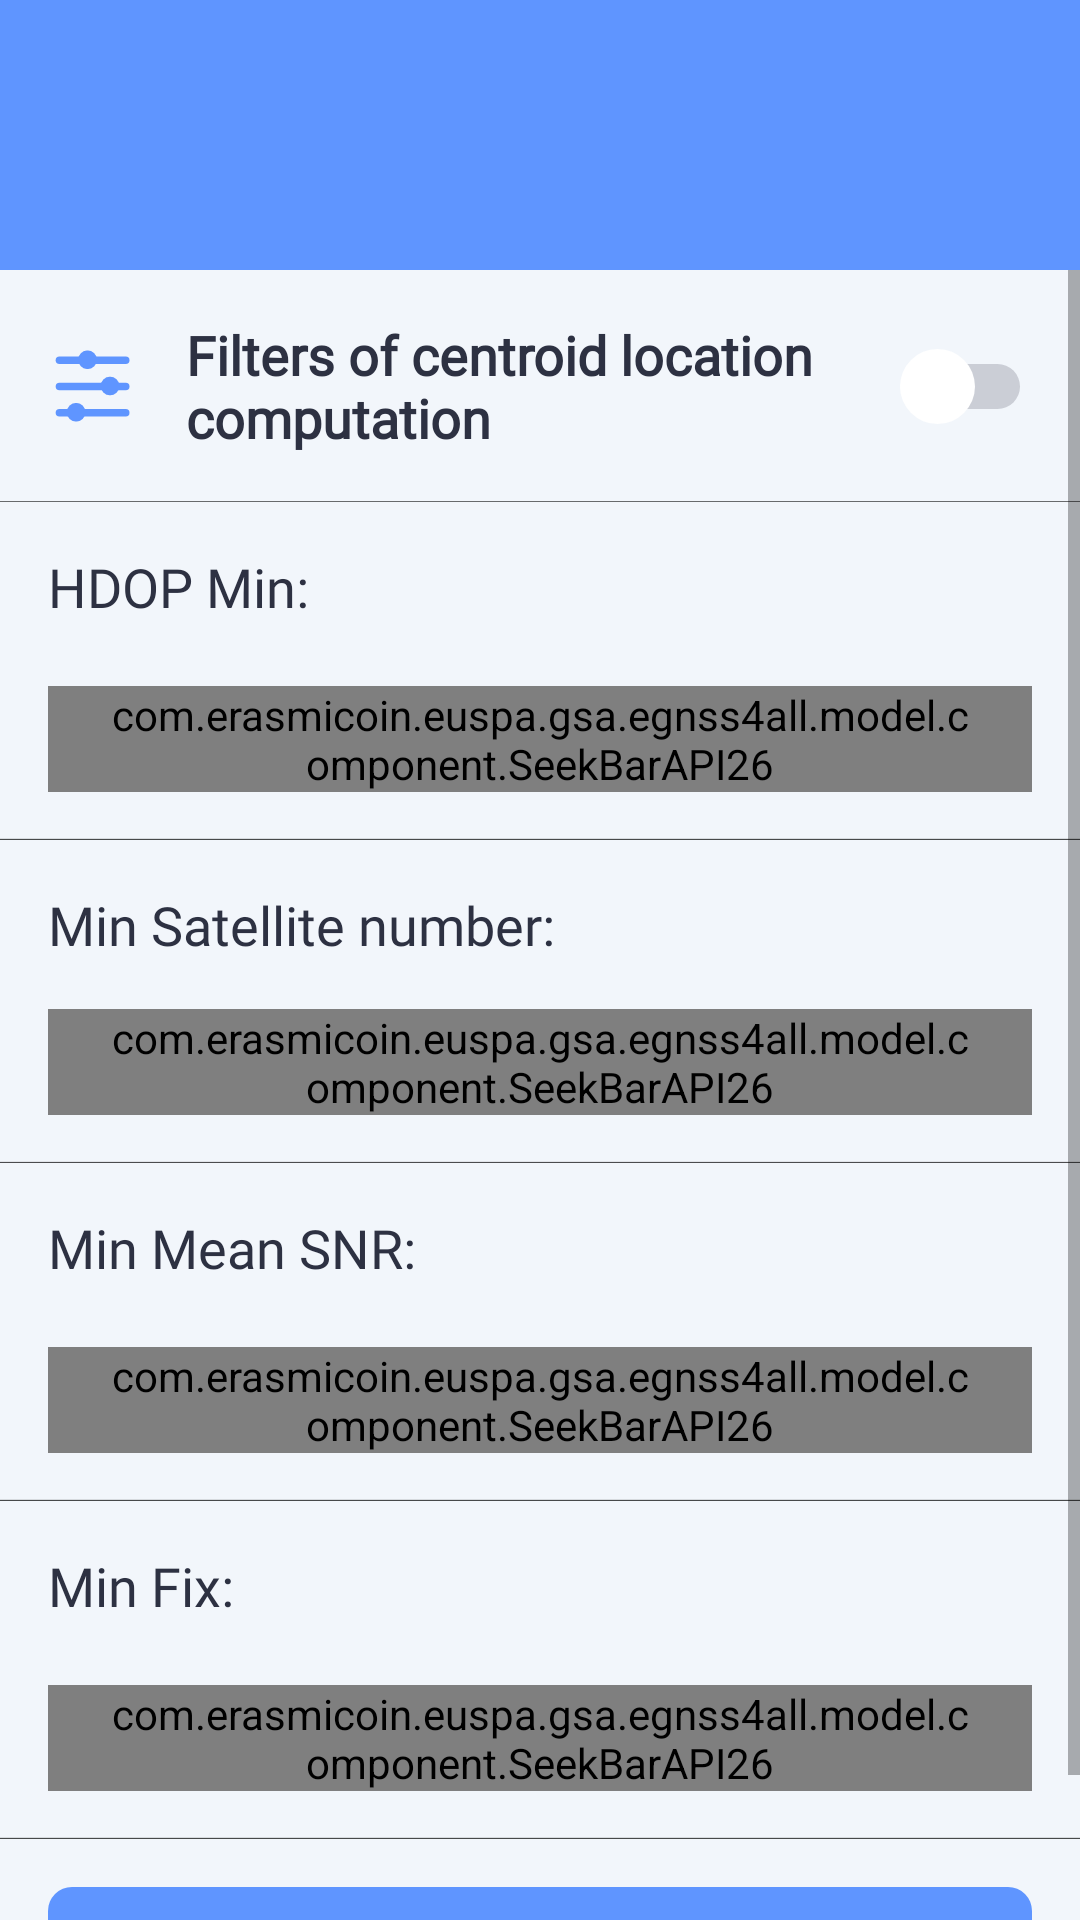

Named icons in this screenshot (1080 × 1920) and their centers, [x,y]:
all settings: [92,386]
